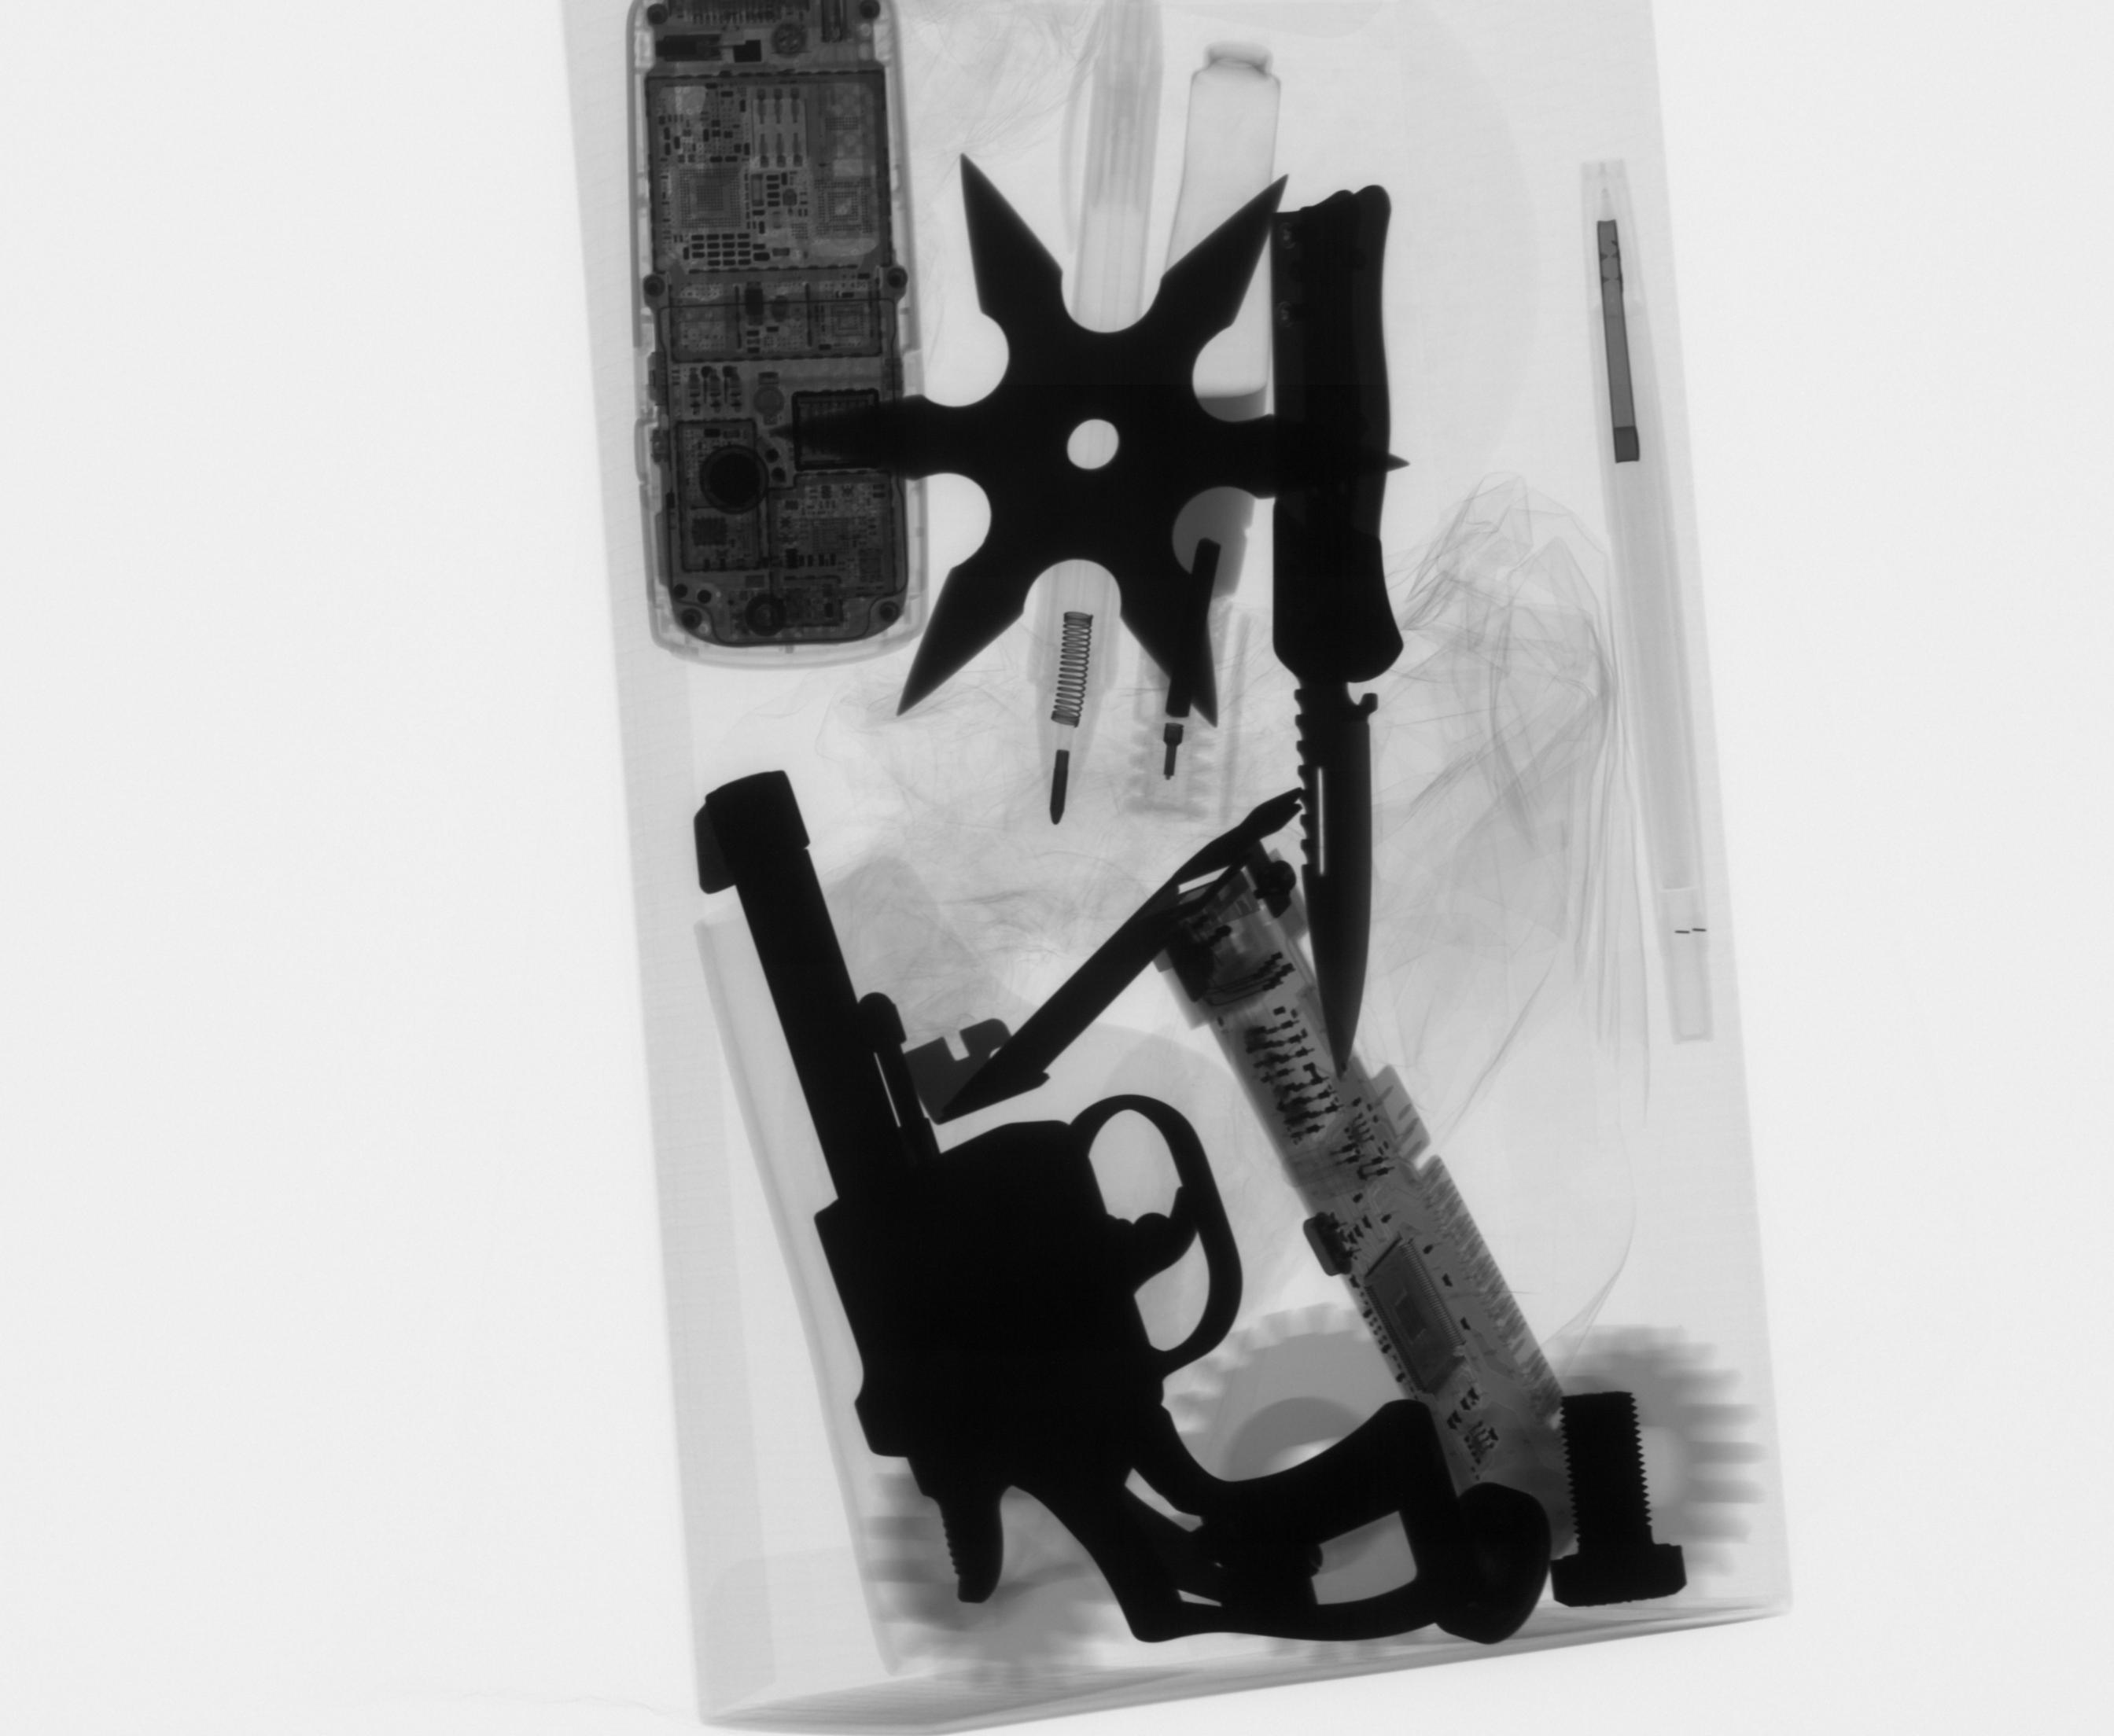Handgun: (683, 760, 1487, 1655)
Knife: (1261, 172, 1417, 1095)
Shuriken: (769, 142, 1415, 737)
